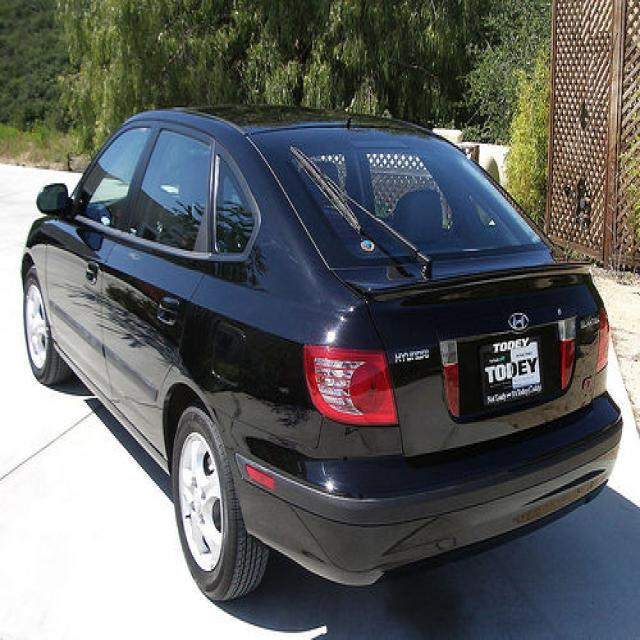Car: (21, 48, 629, 629)
